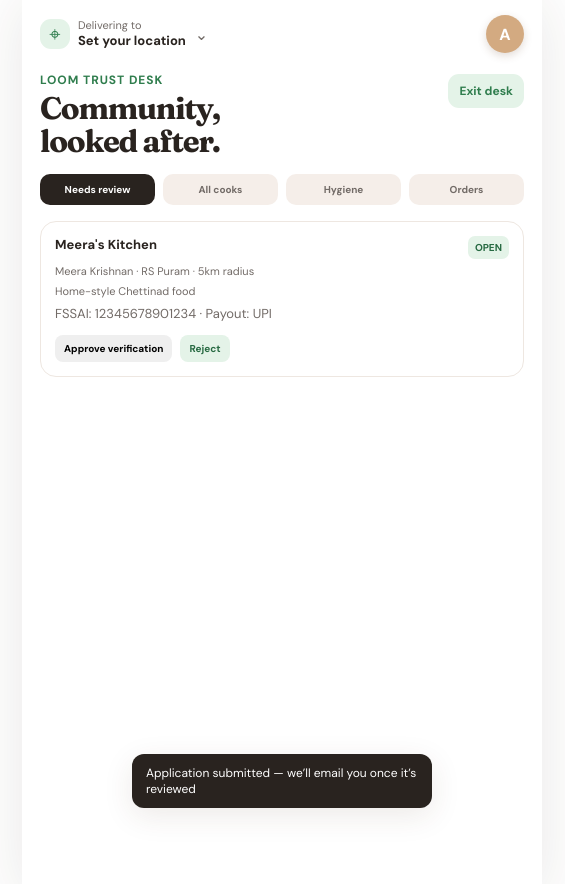
Test: Admin moderation flow (approve/reject a real kitchen application) › approves a kitchen application and removes it from the queue
Expected: the heading "Meera's Kitchen" is shown, [55,236,157,259]
Expected: the text "Meera Krishnan · RS Puram · 5km radius" is shown, [55,264,254,278]
Click the button "Approve verification" at x=114, y=349, box [55,335,172,362]
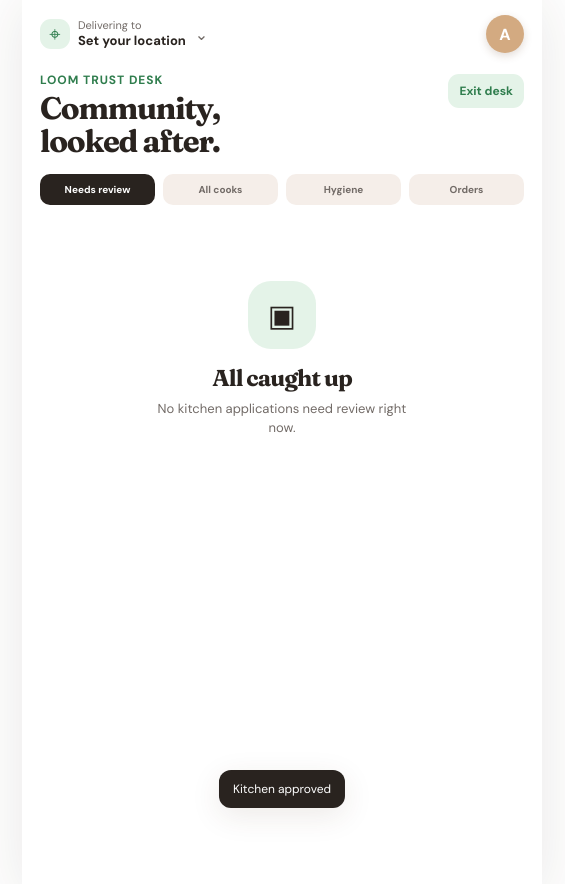
Expected: the heading "All caught up" is shown, [212,364,352,392]
